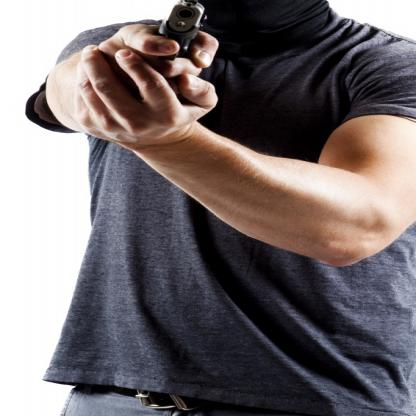gun: (149, 0, 208, 58)
